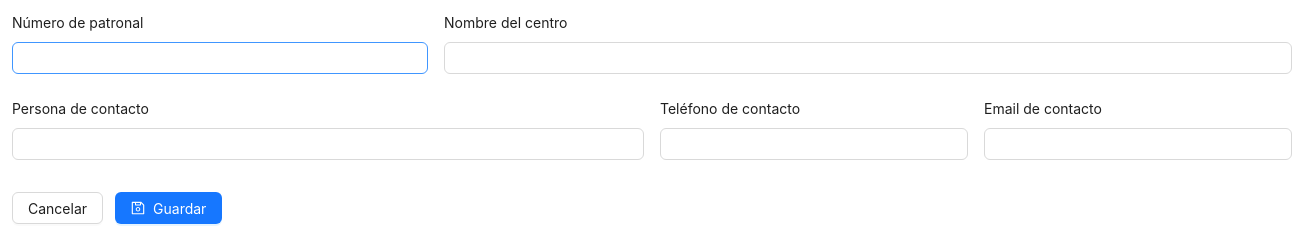
it: <CreateCenterRoute/> › when submitting invalid data › should show error for invalid email
The image size is (1304, 243).
In the field with test id "center-name": (868, 58) [444,42,1292,74], type "Centro Test"
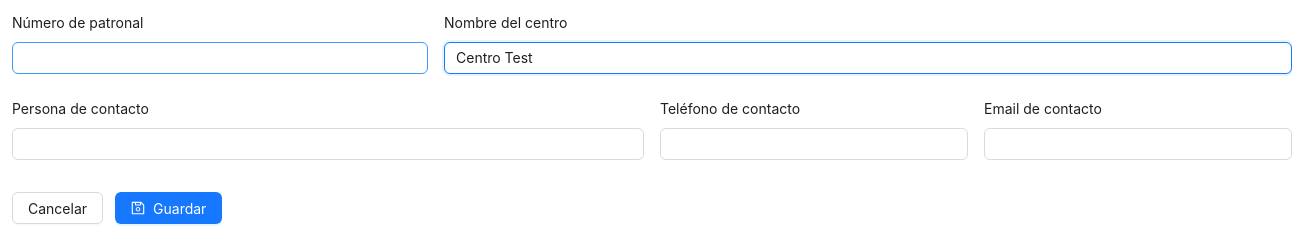
In the field with test id "contact-email": (1138, 144) [984,128,1292,160], type "no-es-email"
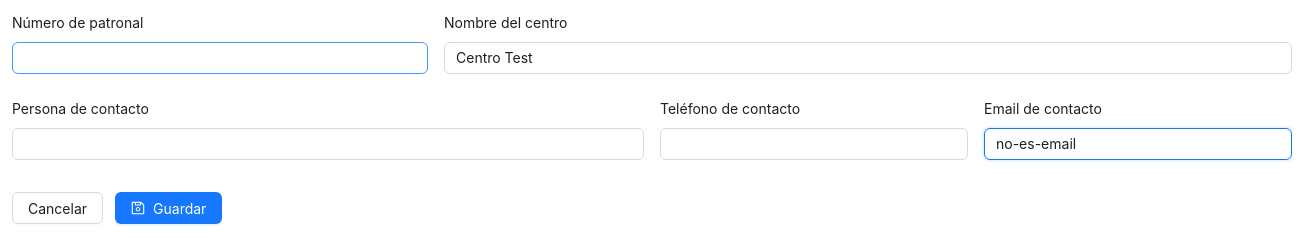
Click the button with test id "submit": (169, 208) [115,192,222,224]
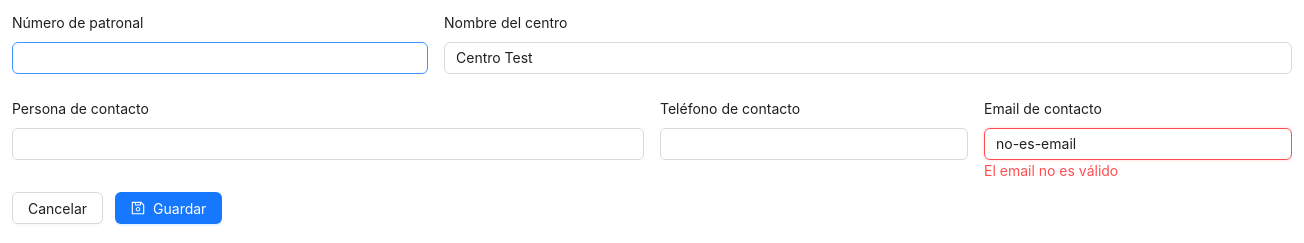
Expected: the text "El email no es válido" is shown, [984,162,1118,179]
